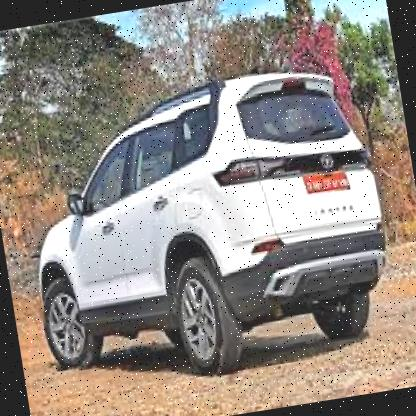car: (0, 50, 411, 411)
